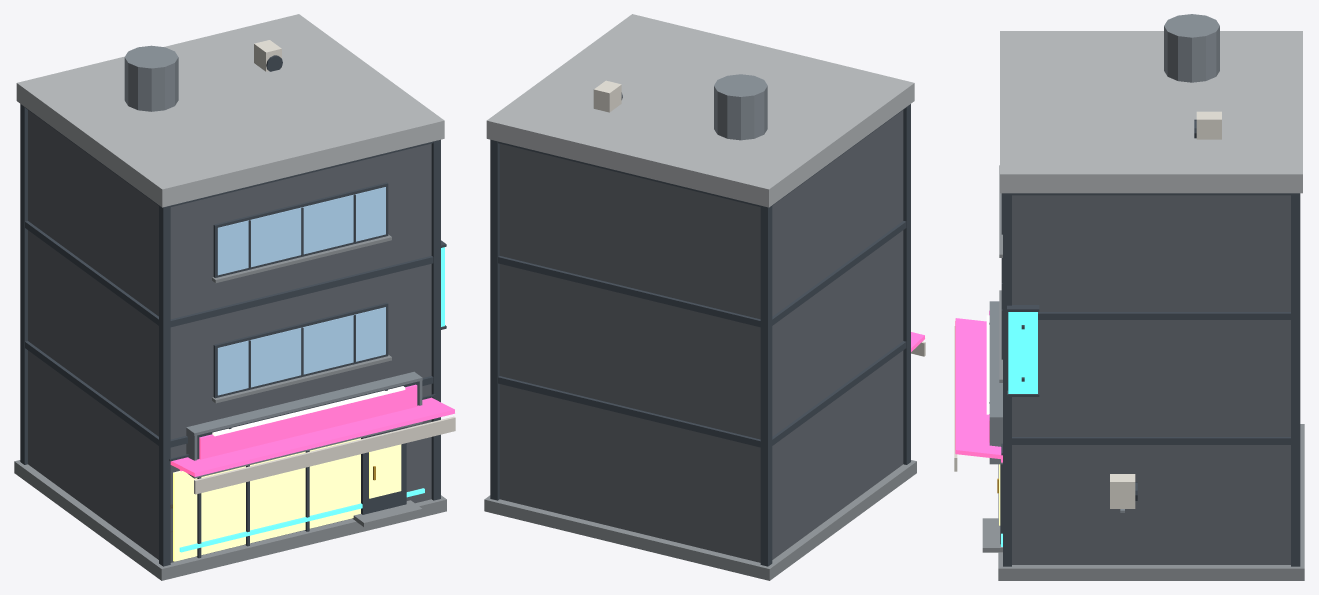
The model's file is shop_arcade_3f.glb.
3 views of the same model, side by side, from view 1: azimuth 30°, elevation 25°; view 2: azimuth 150°, elevation 25°; view 3: azimuth 270°, elevation 25° (orthographic). The views are drawn at different scales.
Parts seen in each view (by area): view 1: body.037, parapet.015, shop_glass.023, win_glass.049, win_glass.048, base.038, awning.012, sign_face.030, post.144, awning_lip.012, beam.079, water_tank.016 (+15 smaller); view 2: body.037, parapet.015, base.038, post.145, beam.079, beam.078, post.147, water_tank.016, post.144, beam.081, ac_body.049; view 3: body.037, parapet.015, base.038, awning.012, post.147, water_tank.016, post.146, blade_board.010, beam.078, beam.079, sign_rim_top.028, ac_body.047 (+3 smaller).
Part boxes in pixels (x1,y1,x2,y2): body.037: (28, 110, 431, 562); parapet.015: (16, 14, 444, 207); shop_glass.023: (173, 438, 360, 561); win_glass.049: (217, 187, 385, 275); win_glass.048: (217, 307, 385, 395); base.038: (14, 460, 446, 580); awning.012: (170, 397, 454, 476); sign_face.030: (199, 384, 417, 459); post.144: (159, 205, 170, 566); awning_lip.012: (194, 416, 455, 494); beam.079: (25, 221, 433, 327); water_tank.016: (124, 45, 178, 111); body.037: (499, 110, 903, 562); parapet.015: (486, 14, 914, 207); base.038: (484, 460, 916, 580); post.145: (760, 205, 772, 566); beam.079: (498, 221, 906, 327); beam.078: (498, 341, 906, 447); post.147: (490, 139, 499, 500); water_tank.016: (714, 74, 767, 140); post.144: (903, 104, 910, 464); beam.081: (498, 107, 906, 206); ac_body.049: (593, 80, 621, 112); body.037: (1012, 195, 1290, 564); parapet.015: (1000, 31, 1302, 193); base.038: (998, 424, 1304, 580); awning.012: (955, 318, 1002, 459); post.147: (1291, 193, 1300, 566); water_tank.016: (1164, 14, 1219, 82); post.146: (1003, 193, 1011, 566); blade_board.010: (1008, 312, 1037, 393); beam.078: (1012, 437, 1290, 444); beam.079: (1038, 312, 1290, 319); sign_rim_top.028: (989, 301, 1002, 419); ac_body.047: (1110, 474, 1135, 508).
Size of the model in its own units: 7.84 by 11.05 by 7.75.
